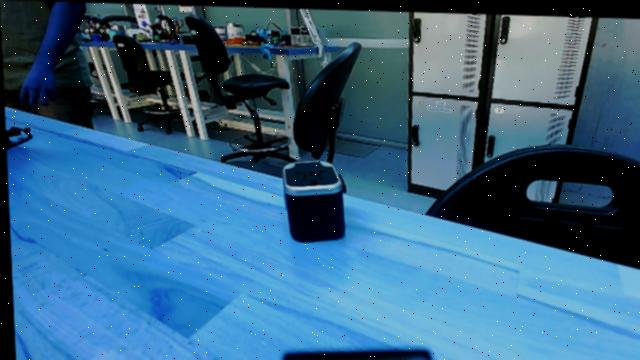adapter: (275, 156, 348, 240)
